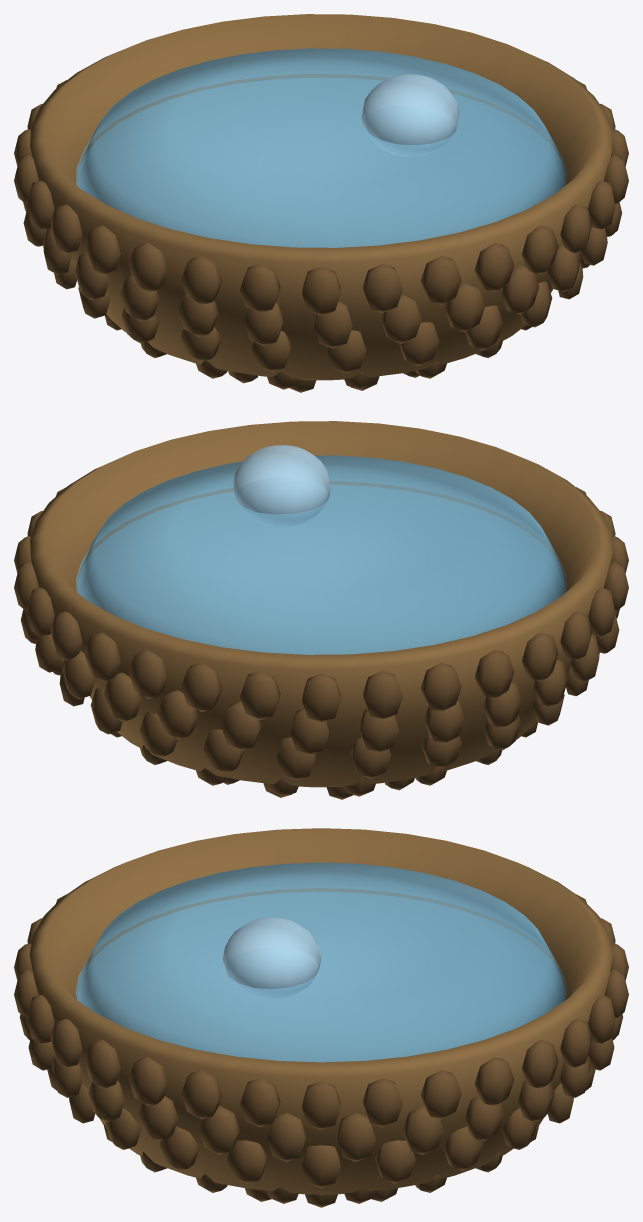
File: nest-watercup.glb
3 views of the same model, one above another, from view 1: azimuth 30°, elevation 25°; view 2: azimuth 150°, elevation 25°; view 3: azimuth 270°, elevation 25° (orthographic).
Parts seen in each view (by area): view 1: WaterCup__Water, WaterCup__Cup, WaterCup__Scales, WaterCup__Droplet; view 2: WaterCup__Water, WaterCup__Cup, WaterCup__Scales, WaterCup__Droplet; view 3: WaterCup__Water, WaterCup__Cup, WaterCup__Scales, WaterCup__Droplet.
Boxes of the visible parts, <box> form: WaterCup__Water: <box>76,48,566,247</box>; WaterCup__Cup: <box>30,14,612,380</box>; WaterCup__Scales: <box>14,80,628,392</box>; WaterCup__Droplet: <box>361,74,459,156</box>; WaterCup__Water: <box>76,455,566,654</box>; WaterCup__Cup: <box>30,421,612,787</box>; WaterCup__Scales: <box>14,487,628,799</box>; WaterCup__Droplet: <box>233,445,330,526</box>; WaterCup__Water: <box>75,862,567,1062</box>; WaterCup__Cup: <box>29,828,613,1194</box>; WaterCup__Scales: <box>14,894,628,1207</box>; WaterCup__Droplet: <box>222,917,321,999</box>.
Size of the model in its own units: 12.5 by 5.8 by 12.43.
